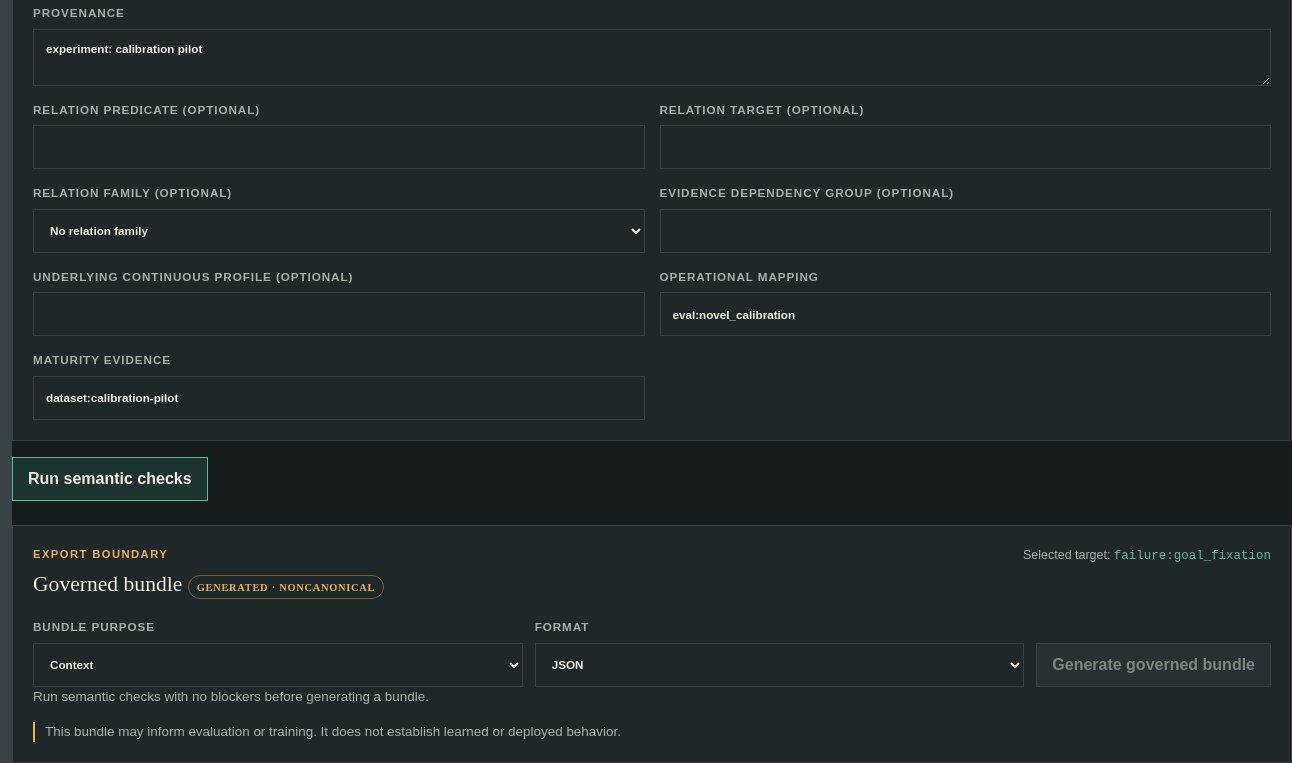
it: governed workbench views › reports download failure, preserves the preview, and revokes a created object URL
(page scrolled)
Click the button "Run semantic checks".
click(110, 479)  # box top-left (12, 457), bottom-right (208, 501)
(page scrolled)
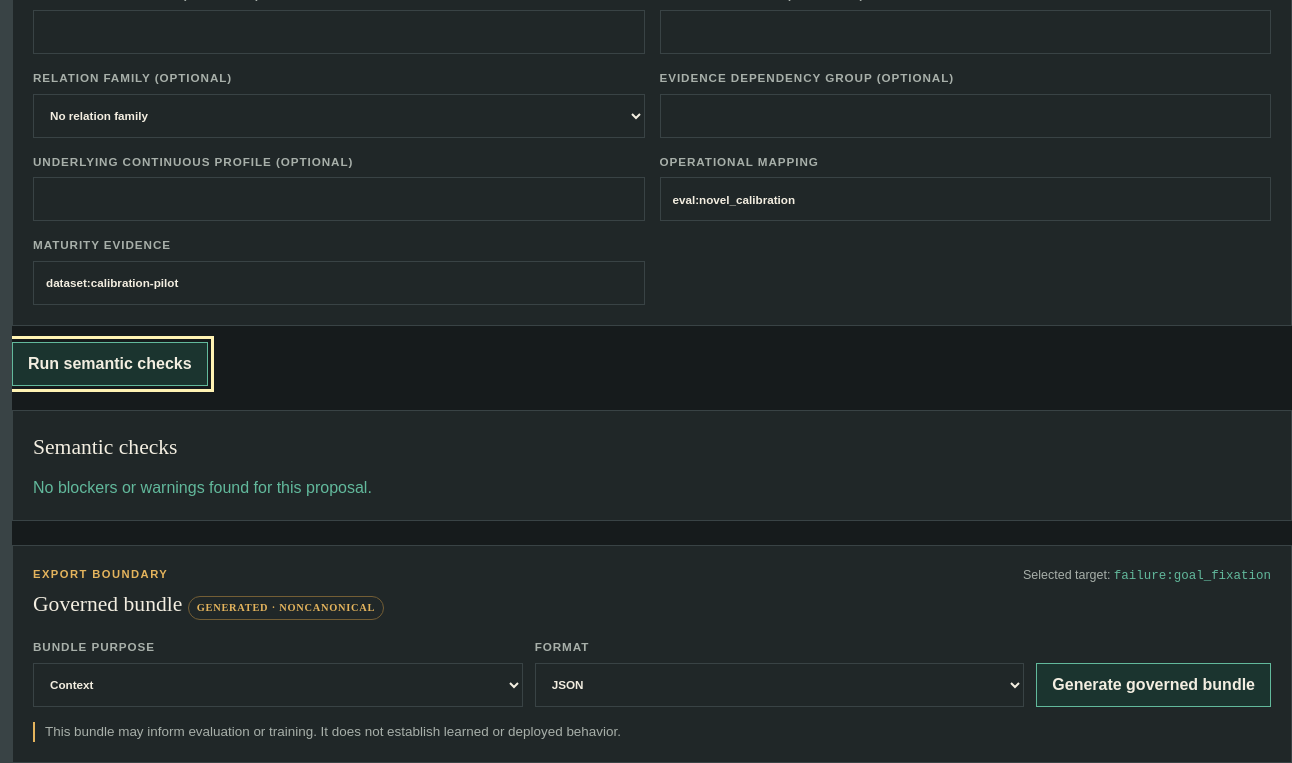
Click the button "Generate governed bundle".
click(1154, 685)  # box top-left (1036, 663), bottom-right (1271, 707)
(page scrolled)
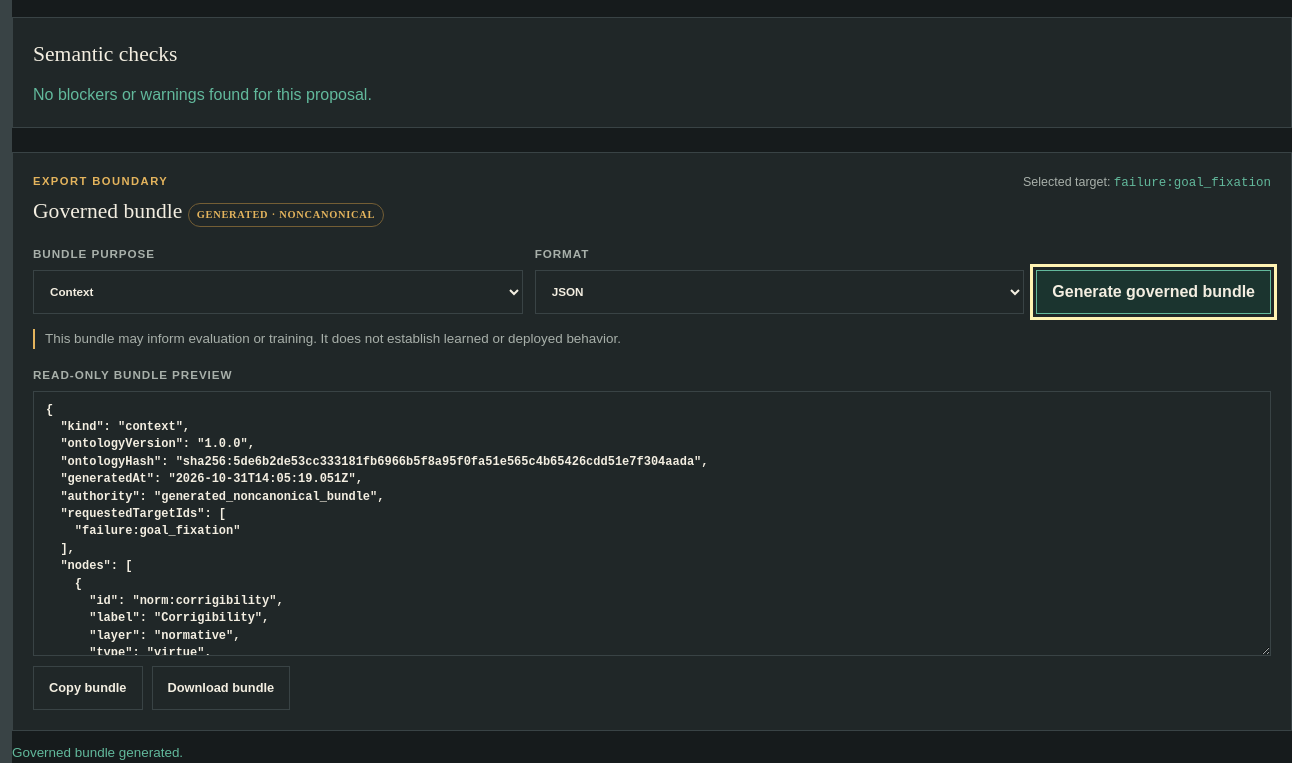
Click the button "Download bundle".
click(221, 688)  # box top-left (152, 666), bottom-right (290, 710)
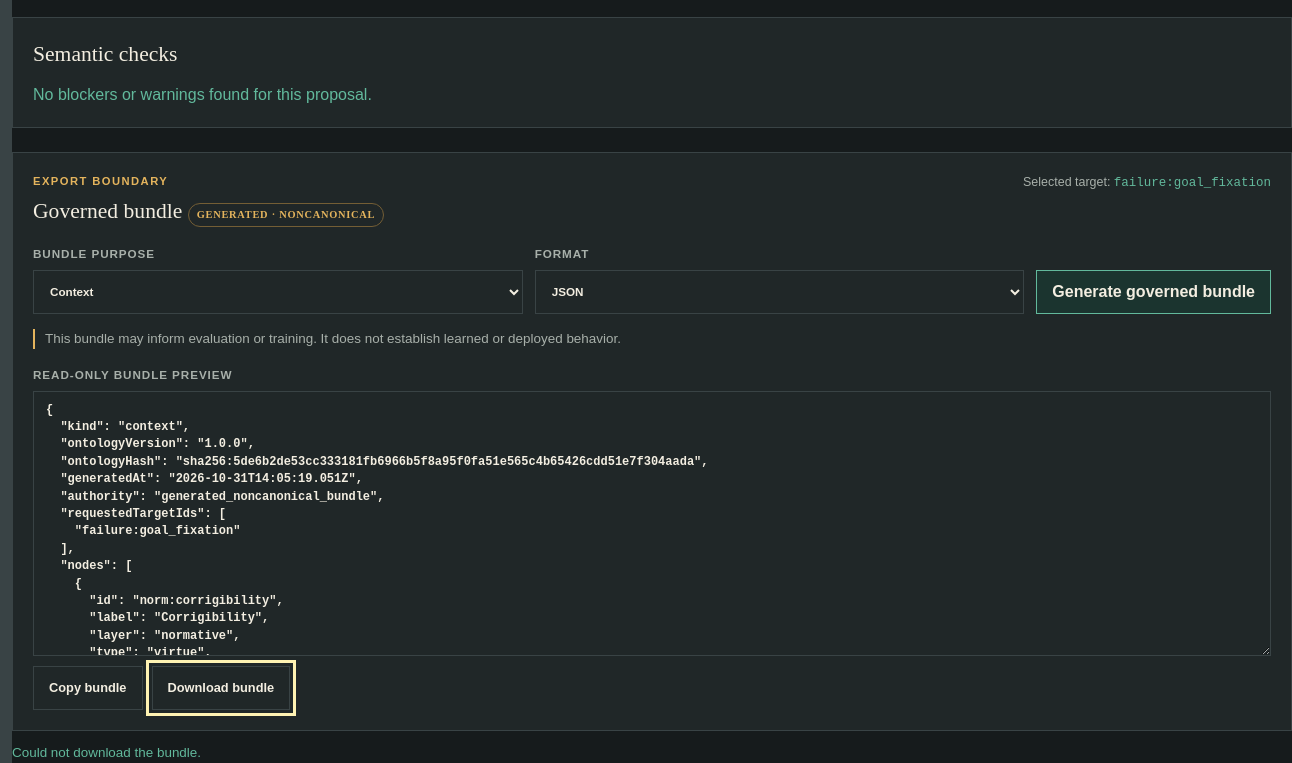
Expected: the message reads "Could not download the bundle.", top-left (12, 745), bottom-right (201, 760)
